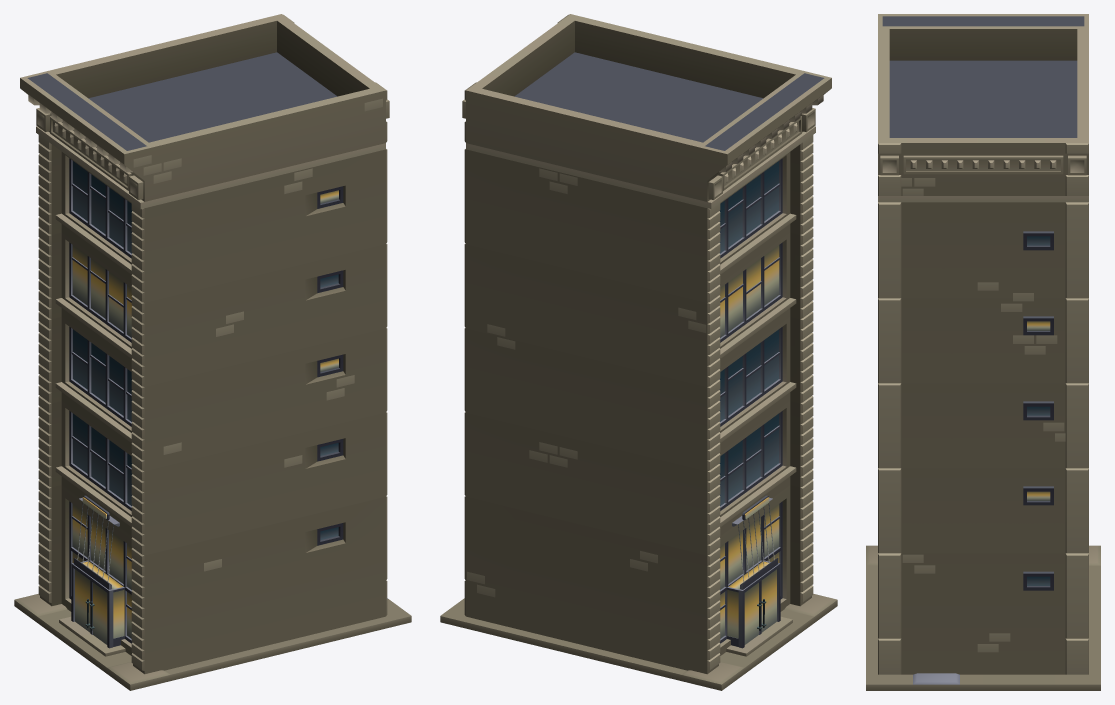
The model's file is Building_12A.fbx.
3 views of the same model, side by side, from view 1: azimuth 30°, elevation 25°; view 2: azimuth 150°, elevation 25°; view 3: azimuth 270°, elevation 25° (orthographic).
Parts seen in each view (by area): view 1: Building_12A, Window_Lights_12A; view 2: Building_12A, Window_Lights_12A; view 3: Building_12A, Window_Lights_12A.
Boxes of the visible parts, bbox=[...] form: Building_12A: bbox=[14, 14, 411, 690]; Window_Lights_12A: bbox=[72, 190, 338, 644]; Building_12A: bbox=[440, 14, 837, 690]; Window_Lights_12A: bbox=[719, 245, 779, 644]; Building_12A: bbox=[866, 14, 1100, 690]; Window_Lights_12A: bbox=[1027, 321, 1050, 500].
Size of the model in its own units: 1400 by 2531 by 1000.
